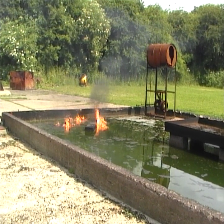fire_h: (63, 114, 87, 133)
fire_l: (94, 110, 107, 136), (56, 121, 60, 126)
